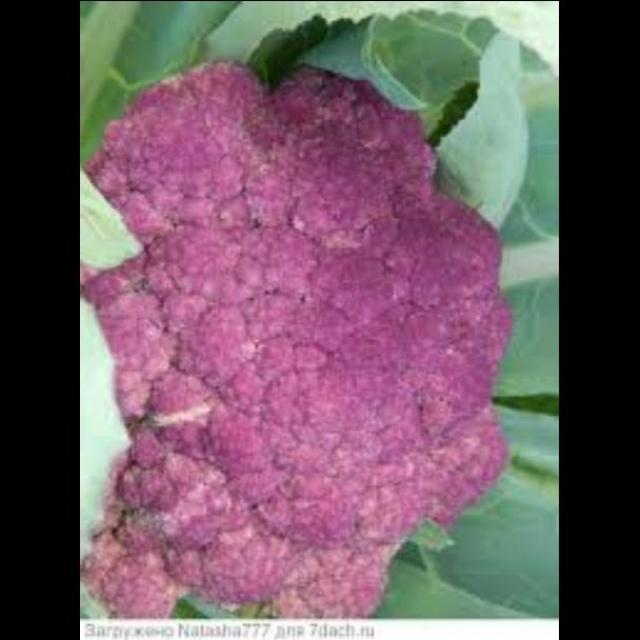cayliflower: (82, 58, 518, 620)
